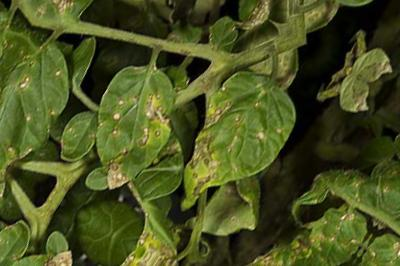Tomato Septoria leaf spot: (154, 61, 319, 249), (58, 51, 205, 208), (0, 18, 104, 181), (119, 194, 209, 266), (295, 194, 380, 266), (321, 69, 388, 132)
